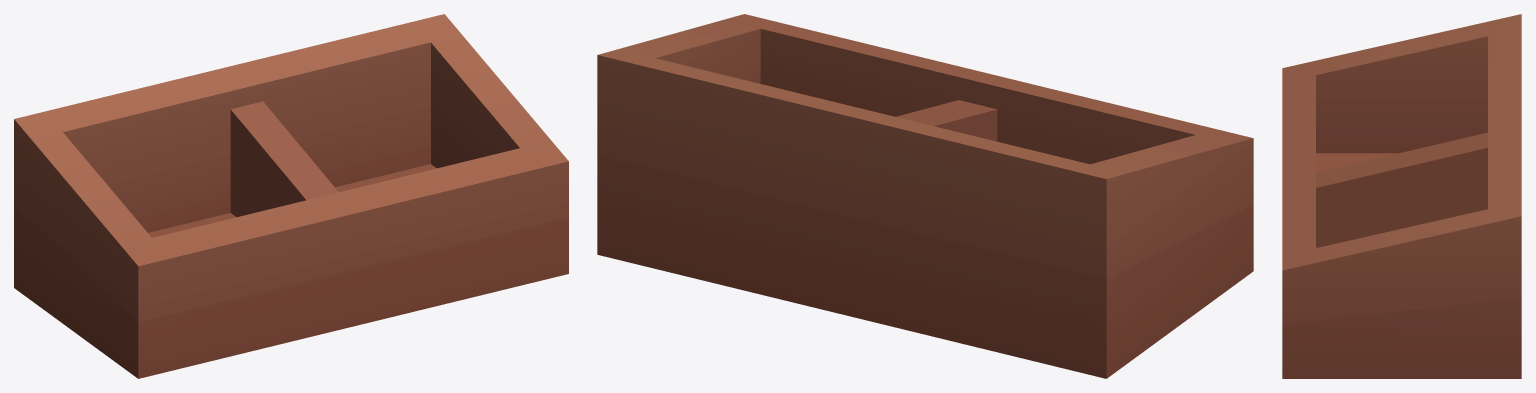
The model's file is crate_long_empty.glb.
3 views of the same model, side by side, from view 1: azimuth 30°, elevation 25°; view 2: azimuth 150°, elevation 25°; view 3: azimuth 270°, elevation 25° (orthographic). The views are drawn at different scales.
Visible parts, largest first — view 1: crate_long_empty; view 2: crate_long_empty; view 3: crate_long_empty.
Boxes of the visible parts, x1,y1,x2,y2 form: crate_long_empty: [14, 14, 568, 378]; crate_long_empty: [597, 14, 1253, 378]; crate_long_empty: [1282, 14, 1521, 378].
Size of the model in its own units: 0.4 by 0.15 by 0.2.
1 material, 1 textured.
